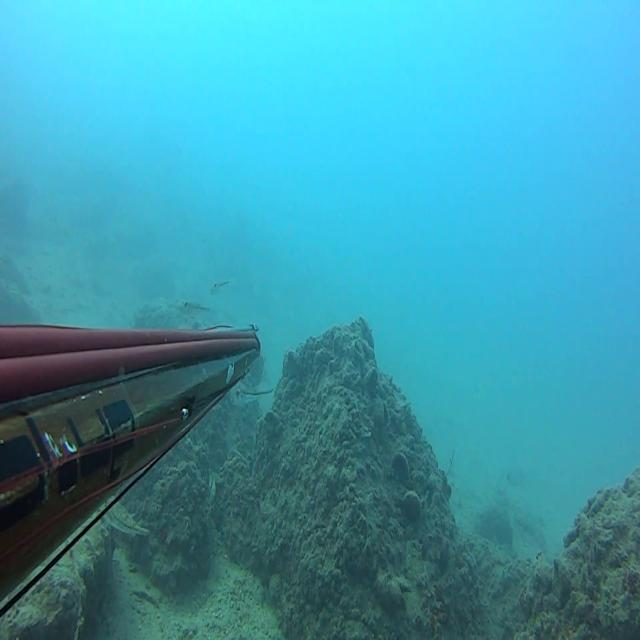Balon Baligi: (104, 495, 150, 538), (230, 387, 275, 403), (180, 300, 210, 317), (210, 280, 234, 295)
